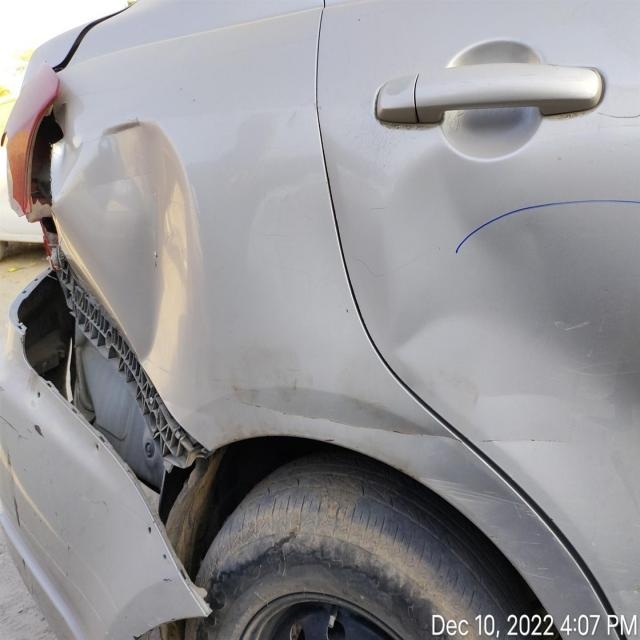damage: (386, 135, 539, 362), (48, 256, 199, 486), (57, 117, 188, 377), (538, 285, 640, 451), (290, 405, 509, 449), (22, 88, 69, 220)
